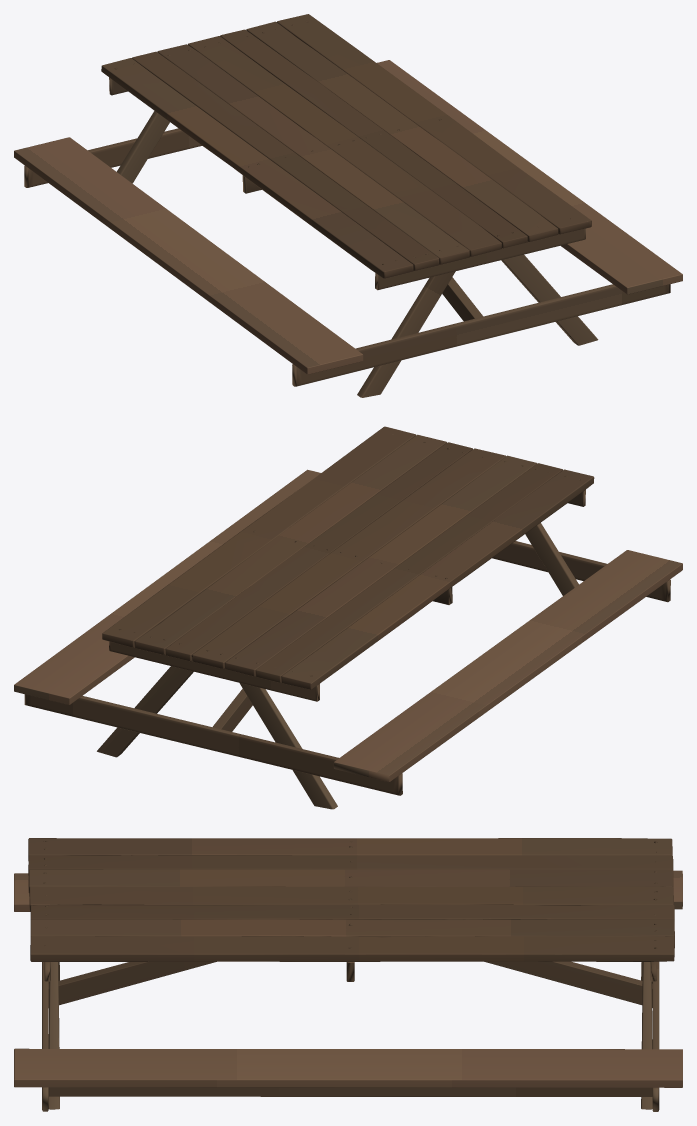
File: ph_picnic.glb
3 views of the same model, one above another, from view 1: azimuth 30°, elevation 25°; view 2: azimuth 150°, elevation 25°; view 3: azimuth 270°, elevation 25° (orthographic). The views are drawn at different scales.
Visible parts, largest first — view 1: ph_picnic; view 2: ph_picnic; view 3: ph_picnic.
Part boxes in pixels (bbox=[...]): ph_picnic: bbox=[14, 14, 682, 397]; ph_picnic: bbox=[14, 426, 682, 809]; ph_picnic: bbox=[14, 838, 682, 1111].
Size of the model in its own units: 2.24 by 0.7454 by 3.02.
2 materials, 2 textured.
